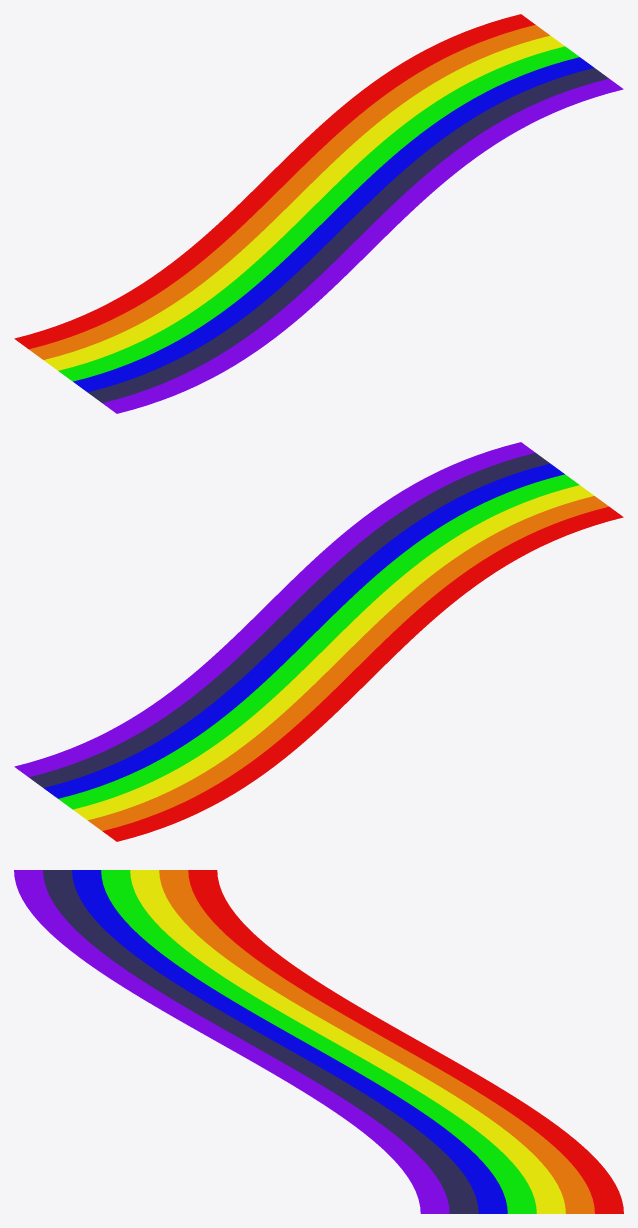
File: Rainbow Flat Curve.fbx
3 views of the same model, one above another, from view 1: azimuth 30°, elevation 25°; view 2: azimuth 210°, elevation 25°; view 3: azimuth 270°, elevation 25° (orthographic).
Parts seen in each view (by area): view 1: Rainbow Flat Curve; view 2: Rainbow Flat Curve; view 3: Rainbow Flat Curve.
Boxes of the visible parts, x1,y1,x2,y2 form: Rainbow Flat Curve: [14, 14, 623, 413]; Rainbow Flat Curve: [14, 442, 623, 841]; Rainbow Flat Curve: [14, 870, 623, 1213].
Bounding box in the file's own units: 400 × 4.89e-05 × 300.
